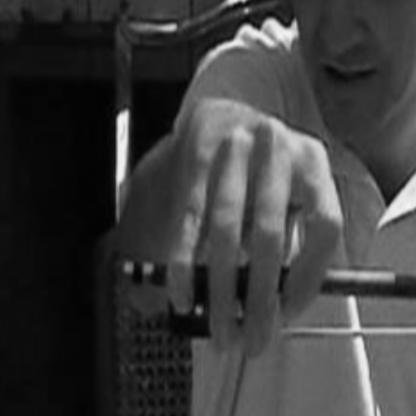bad: (143, 84, 348, 369)
